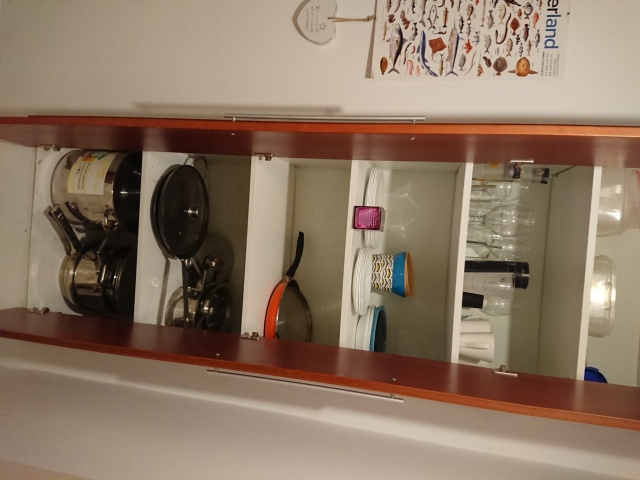Franck Black Currant Tea 60g: (351, 204, 387, 233)
